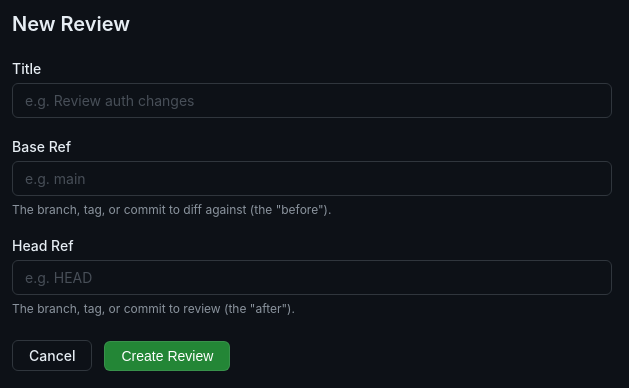
Test: SessionCreatePage › disables the submit button while submitting
Step 1. Type "Test" into the field labelled "Title" → (312, 100), box x1=12 y1=83 x2=612 y2=118
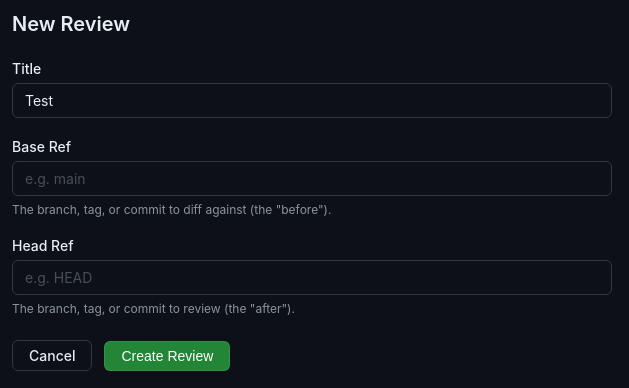
Step 2. Type "main" into the dropdown labelled "Base Ref" → (312, 178), box x1=12 y1=161 x2=612 y2=196
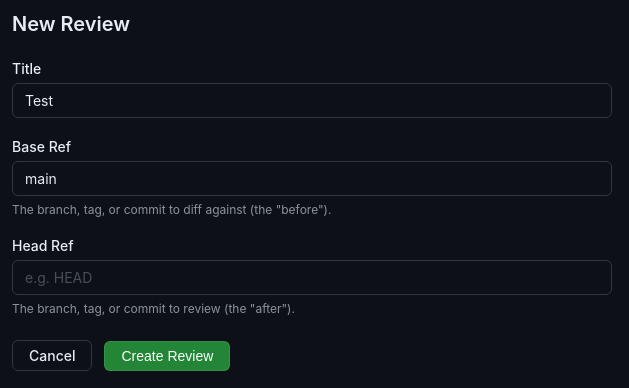
Step 3. Type "HEAD" into the dropdown labelled "Head Ref" → (312, 278), box x1=12 y1=260 x2=612 y2=295
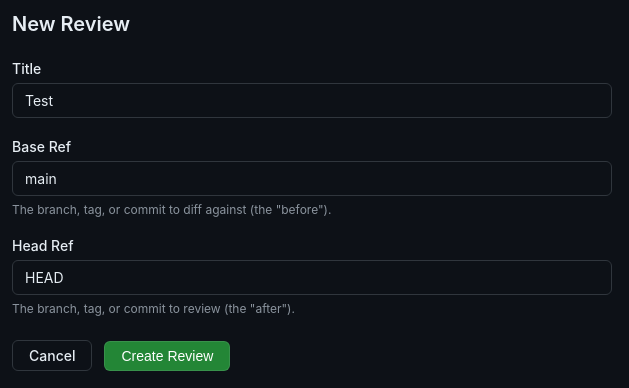
Step 4. Click the button "Create Review" → (167, 356), box x1=104 y1=340 x2=230 y2=370
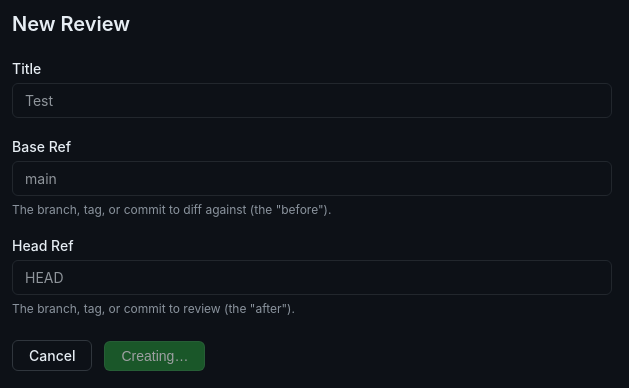
Expected: the button "Creating…" is disabled, x1=104 y1=340 x2=205 y2=370
